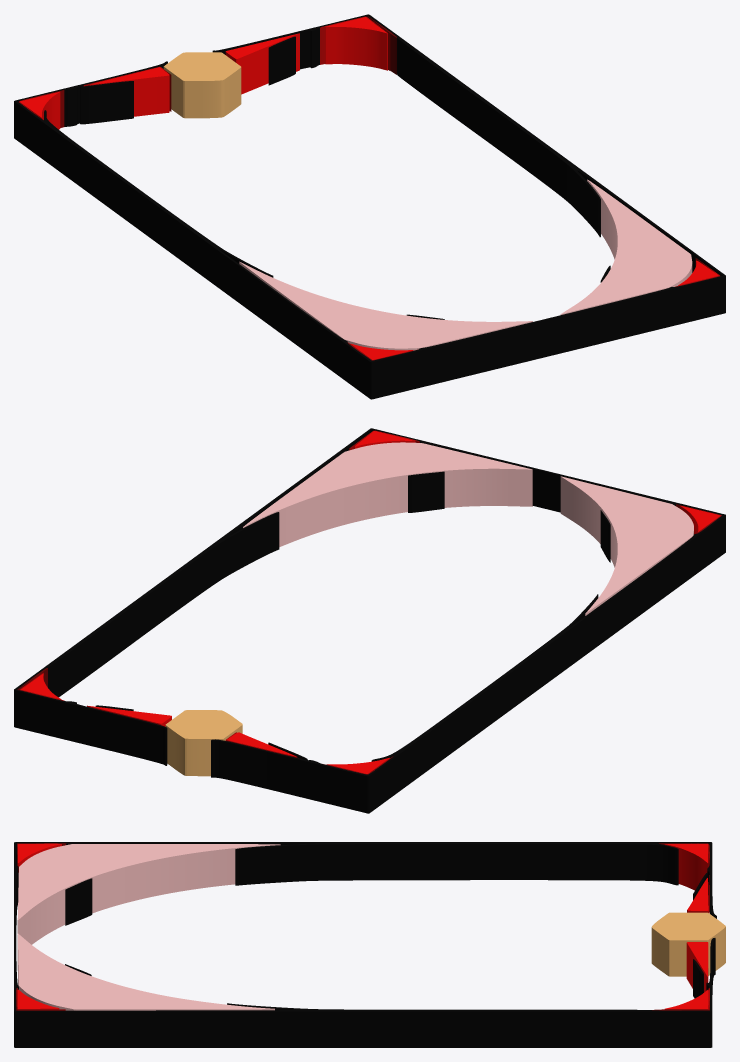
3 views of the same model, one above another, from view 1: azimuth 30°, elevation 25°; view 2: azimuth 150°, elevation 25°; view 3: azimuth 270°, elevation 25° (orthographic). The views are drawn at different scales.
Parts seen in each view (by area): view 1: imagetostl_mesh4, imagetostl_mesh1, imagetostl_mesh3, imagetostl_mesh5, imagetostl_mesh26, imagetostl_mesh20, imagetostl_mesh6, imagetostl_mesh27, imagetostl_mesh16, imagetostl_mesh14, imagetostl_mesh8, imagetostl_mesh2; view 2: imagetostl_mesh4, imagetostl_mesh2, imagetostl_mesh1, imagetostl_mesh3, imagetostl_mesh5, imagetostl_mesh0, imagetostl_mesh26, imagetostl_mesh27, imagetostl_mesh12; view 3: imagetostl_mesh4, imagetostl_mesh0, imagetostl_mesh1, imagetostl_mesh3, imagetostl_mesh5, imagetostl_mesh26, imagetostl_mesh27, imagetostl_mesh10, imagetostl_mesh18, imagetostl_mesh2, imagetostl_mesh15, imagetostl_mesh17 (+4 smaller).
Part boxes in pixels (bbox=[...]): imagetostl_mesh4: bbox=[14, 15, 725, 399]; imagetostl_mesh1: bbox=[240, 262, 532, 348]; imagetostl_mesh3: bbox=[561, 179, 692, 314]; imagetostl_mesh5: bbox=[14, 14, 725, 362]; imagetostl_mesh26: bbox=[163, 67, 241, 118]; imagetostl_mesh20: bbox=[325, 27, 387, 70]; imagetostl_mesh6: bbox=[80, 81, 133, 124]; imagetostl_mesh27: bbox=[164, 52, 240, 80]; imagetostl_mesh16: bbox=[90, 75, 169, 116]; imagetostl_mesh14: bbox=[225, 33, 299, 94]; imagetostl_mesh8: bbox=[268, 37, 295, 85]; imagetostl_mesh2: bbox=[560, 180, 692, 314]; imagetostl_mesh4: bbox=[14, 429, 725, 813]; imagetostl_mesh2: bbox=[243, 468, 532, 547]; imagetostl_mesh1: bbox=[561, 476, 693, 613]; imagetostl_mesh3: bbox=[243, 442, 532, 527]; imagetostl_mesh5: bbox=[14, 428, 725, 776]; imagetostl_mesh0: bbox=[560, 477, 693, 615]; imagetostl_mesh26: bbox=[165, 725, 242, 776]; imagetostl_mesh27: bbox=[165, 710, 242, 738]; imagetostl_mesh12: bbox=[408, 471, 444, 512]; imagetostl_mesh4: bbox=[14, 843, 716, 1047]; imagetostl_mesh0: bbox=[17, 844, 280, 944]; imagetostl_mesh1: bbox=[17, 844, 278, 919]; imagetostl_mesh3: bbox=[17, 933, 274, 1009]; imagetostl_mesh5: bbox=[14, 842, 716, 1011]; imagetostl_mesh26: bbox=[651, 927, 725, 976]; imagetostl_mesh27: bbox=[652, 912, 725, 940]; imagetostl_mesh10: bbox=[65, 878, 92, 925]; imagetostl_mesh18: bbox=[664, 844, 708, 890]; imagetostl_mesh2: bbox=[17, 935, 274, 1010]; imagetostl_mesh15: bbox=[687, 942, 708, 976]; imagetostl_mesh17: bbox=[687, 878, 708, 910].
Size of the model in its own units: 9999 by 1000 by 17766.
